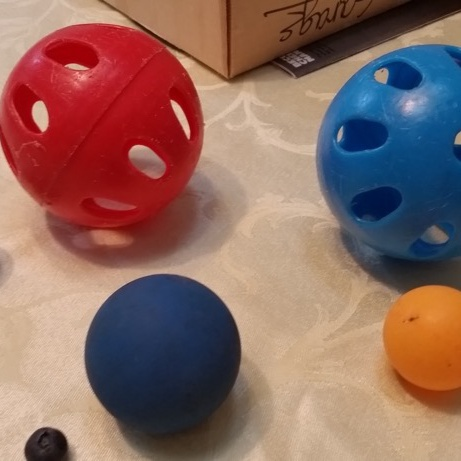ball: (2, 19, 206, 230), (314, 40, 461, 266)
